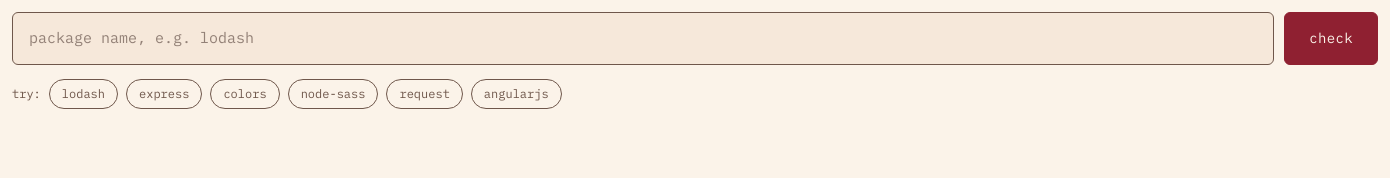
error handling › reports a throttle as a throttle, not as a missing package
Step 1. Type "examplepkg" into the field labelled "package name, e.g. lodash" → (643, 38), box [12,12,1274,64]
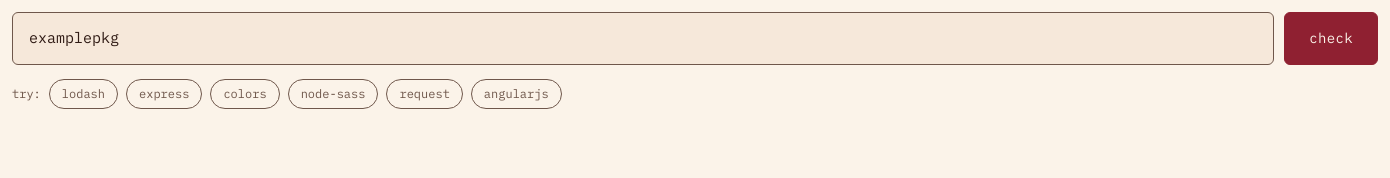
Step 2. Click the button "check" → (1331, 38), box [1284,12,1378,64]
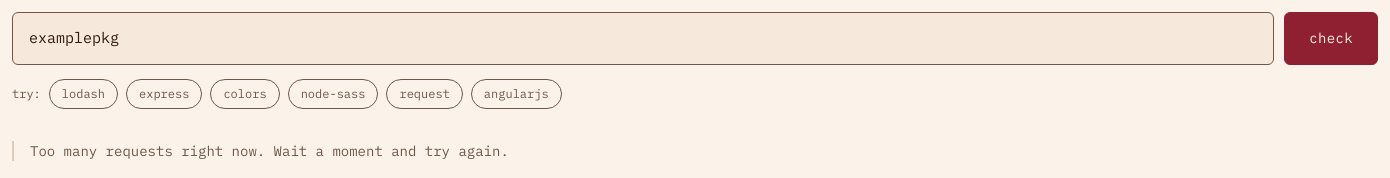
Now the message shows "Too many requests", box [30,142,509,160]
